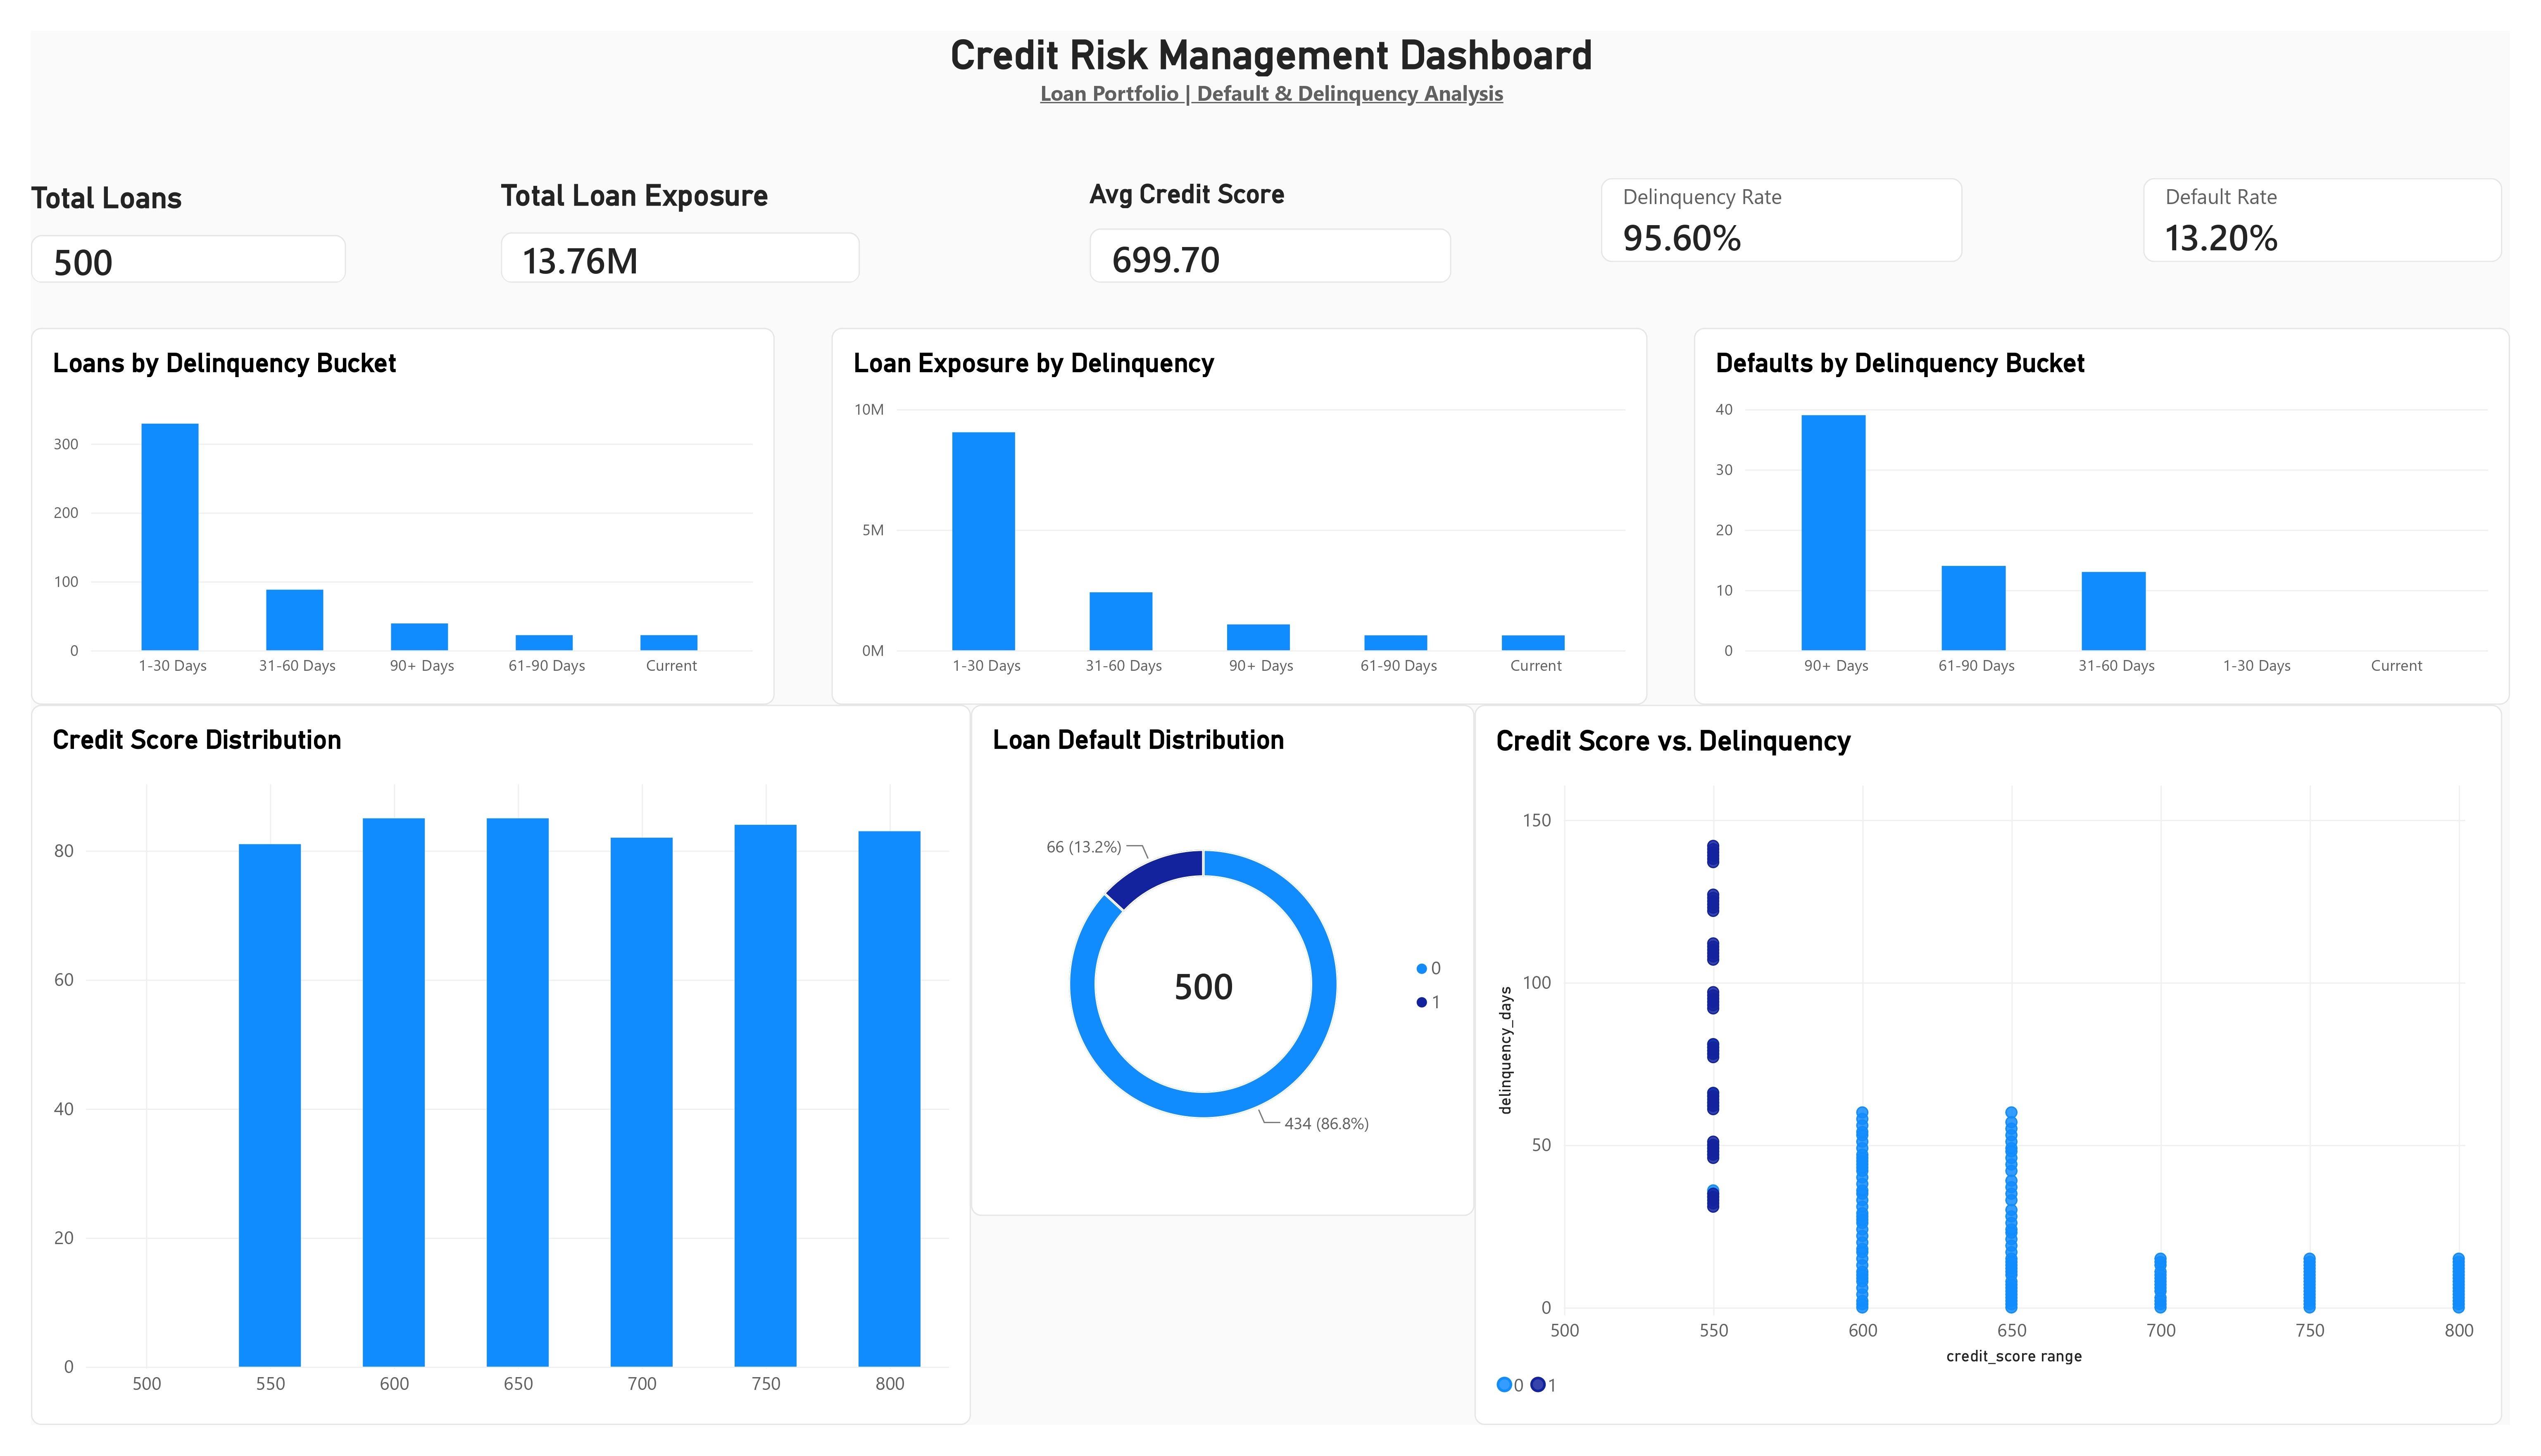

Layout of this report page (visuals, bound fields, positions):
{"tool":"powerbi","page":{"name":"Page 1","canvas":[1920,1080],"ordinal":0},"visuals":[{"type":"cardVisual","title":"Total Loans","fields":{"Data":["CountNonNull(credit_risk_management loans.loan_id)"]},"box":[0,116,244,80],"z":0},{"type":"cardVisual","title":"Avg Credit Score","fields":{"Data":["Avg(credit_risk_management loans.credit_score)"]},"box":[820,114,280,82],"z":2},{"type":"cardVisual","fields":{"Data":["credit_risk_management loans.Default Rate"]},"box":[1636,114,278.3,65.4],"z":4},{"type":"cardVisual","fields":{"Data":["credit_risk_management loans.Delinquency Rate"]},"box":[1216,114,280.2,65.4],"z":5},{"type":"clusteredColumnChart","title":"Loan Exposure by Delinquency","fields":{"Category":["credit_risk_management loans.Delinquency Bucket"],"Y":["Sum(credit_risk_management loans.loan_amount)"]},"box":[620,230,632,292],"z":6},{"type":"clusteredColumnChart","title":"Loans by Delinquency Bucket","fields":{"Category":["credit_risk_management loans.Delinquency Bucket"],"Y":["CountNonNull(credit_risk_management loans.loan_id)"]},"box":[0,230,576,292],"z":7},{"type":"donutChart","title":"Loan Default Distribution","fields":{"Category":["credit_risk_management loans.default_flag"],"Y":["CountNonNull(credit_risk_management loans.loan_id)"]},"box":[728,522,390,396],"z":8},{"type":"clusteredColumnChart","title":"Defaults by Delinquency Bucket","fields":{"Category":["credit_risk_management loans.Delinquency Bucket"],"Y":["Sum(credit_risk_management loans.default_flag)"]},"box":[1288,230,632,292],"z":9},{"type":"scatterChart","title":"Credit Score vs. Delinquency","fields":{"Series":["credit_risk_management loans.default_flag"],"X":["credit_risk_management loans.credit_score (bins) 2"],"Y":["credit_risk_management loans.delinquency_days"]},"box":[1118,522,796,558],"z":10},{"type":"cardVisual","title":"Total Loan Exposure","fields":{"Data":["Sum(credit_risk_management loans.loan_amount)"]},"box":[364,114,278,82],"z":11},{"type":"clusteredColumnChart","title":"Credit Score Distribution","fields":{"Category":["credit_risk_management loans.credit_score (bins)"],"Y":["CountNonNull(credit_risk_management loans.loan_id)"]},"box":[0,522,728,558],"z":12},{"type":"textbox","title":"Credit Risk Management Dashboard","box":[706.1,0,510,65.4],"z":13}]}

Visuals, with their boxes on the page's 1920x1080 design canvas (x1, y1, x2, y2). These are canvas units, not pixel positions in the 2541x1456 screenshot, which may show the page scaled, cropped or inside an application window:
"Total Loans" cardVisual: 0, 116, 244, 196
"Avg Credit Score" cardVisual: 820, 114, 1100, 196
cardVisual - credit_risk_management loans.Default Rate: 1636, 114, 1914, 179
cardVisual - credit_risk_management loans.Delinquency Rate: 1216, 114, 1496, 179
"Loan Exposure by Delinquency" clusteredColumnChart: 620, 230, 1252, 522
"Loans by Delinquency Bucket" clusteredColumnChart: 0, 230, 576, 522
"Loan Default Distribution" donutChart: 728, 522, 1118, 918
"Defaults by Delinquency Bucket" clusteredColumnChart: 1288, 230, 1920, 522
"Credit Score vs. Delinquency" scatterChart: 1118, 522, 1914, 1080
"Total Loan Exposure" cardVisual: 364, 114, 642, 196
"Credit Score Distribution" clusteredColumnChart: 0, 522, 728, 1080
"Credit Risk Management Dashboard" textbox: 706, 0, 1216, 65
